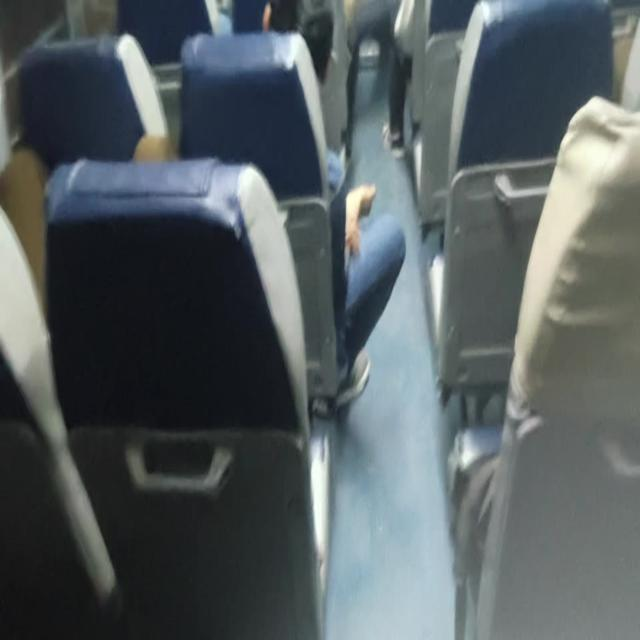person: (447, 93, 639, 637), (260, 1, 406, 415), (335, 181, 406, 410)
